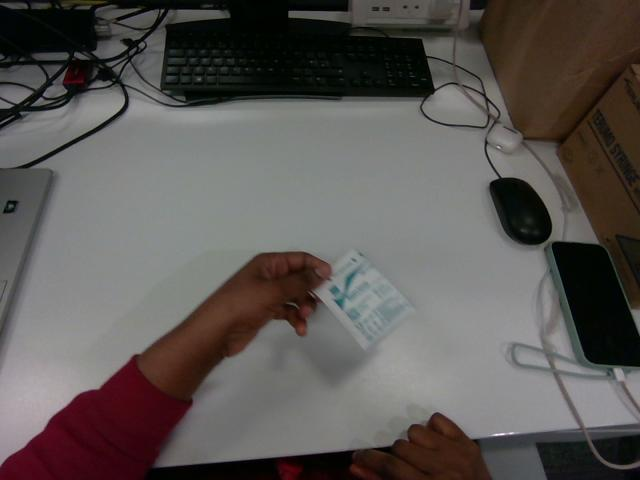gauze: (313, 250, 414, 348)
